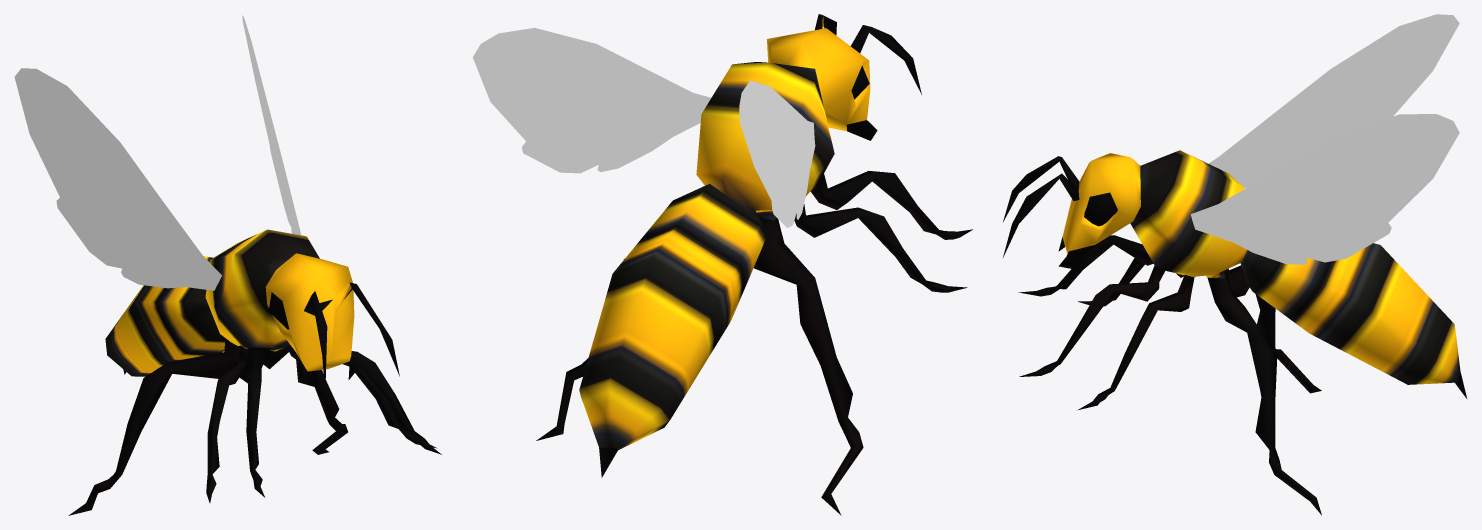
Rendered from Bee.glb.
3 views of the same model, side by side, from view 1: azimuth 30°, elevation 25°; view 2: azimuth 150°, elevation 25°; view 3: azimuth 270°, elevation 25° (orthographic). The views are drawn at different scales.
Parts seen in each view (by area): view 1: Bee; view 2: Bee; view 3: Bee.
Part boxes in pixels (x1,y1,x2,y2): Bee: [14, 15, 441, 515]; Bee: [472, 14, 972, 515]; Bee: [1003, 14, 1466, 515].
Size of the model in its own units: 0.1323 by 0.1921 by 0.2077.
Materials: 1 (1 with a texture image).
